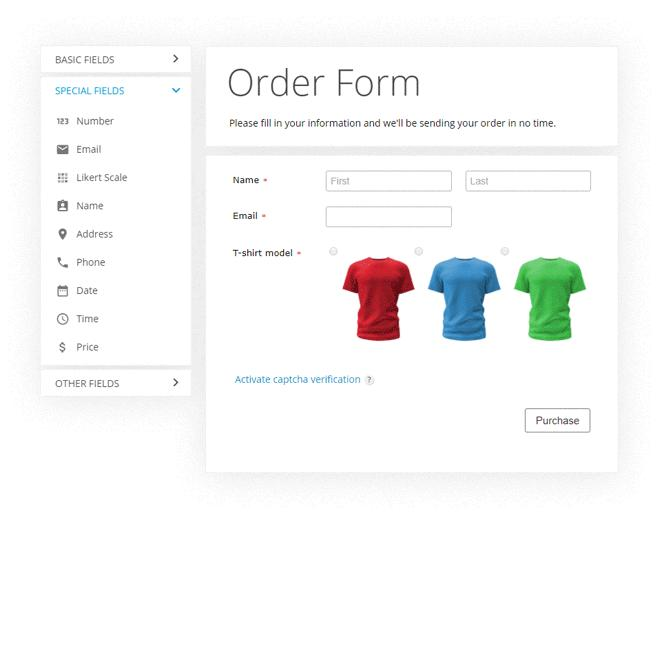button: (520, 403, 599, 441)
radiobutton: (231, 241, 589, 349)
textbox: (458, 164, 601, 203), (319, 164, 460, 199)
